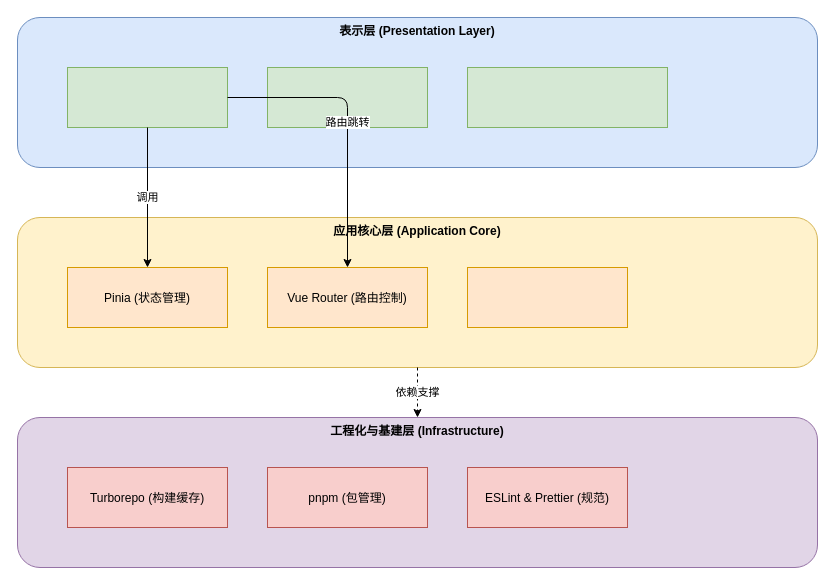
The diagram is 835 pixels wide and 585 high, and some of its shapes have lost their labels. Each missing label, with the centre of its shape:
"Ant Design Vue & Tailwind" goes at pixel 567 97.
"Vite & TypeScript" goes at pixel 347 97.
"Vue 3 & Composition API" goes at pixel 147 97.
"Vue Request (请求管理)" goes at pixel 547 297.
